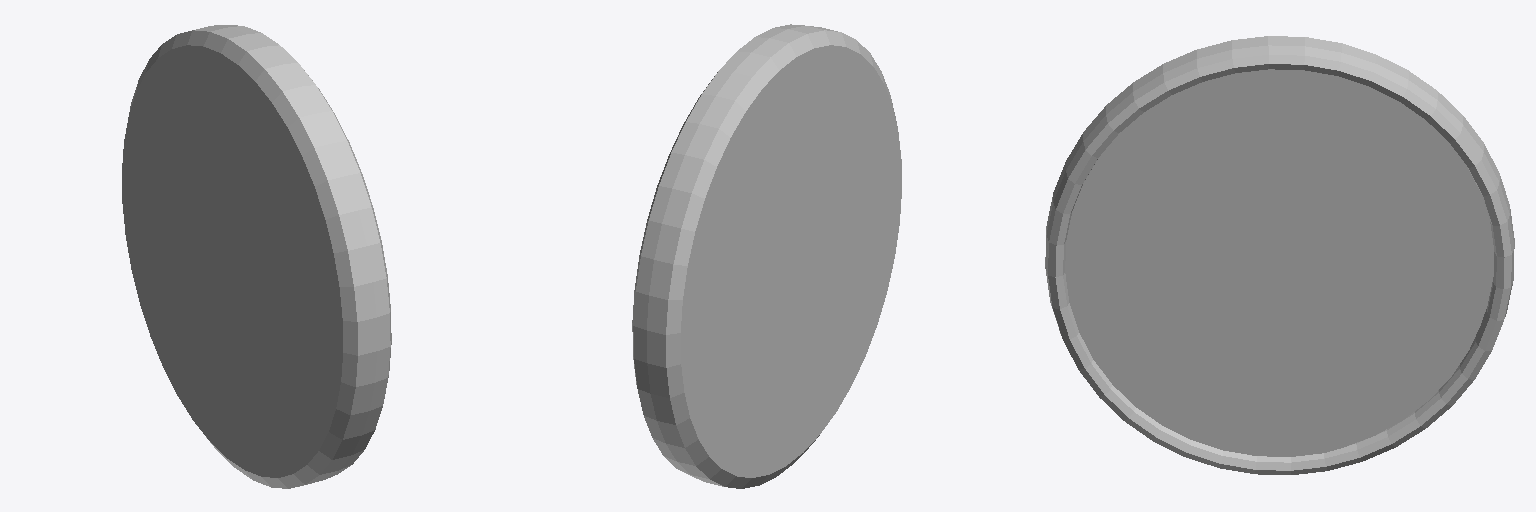
Rendered from Clock.obj.
3 renders of one model, left to right at view 1: azimuth 30°, elevation 25°; view 2: azimuth 150°, elevation 25°; view 3: azimuth 270°, elevation 25°, orthographic.
Parts seen in each view (by area): view 1: Circle.016_Circle.006; view 2: Circle.016_Circle.006; view 3: Circle.000, Circle.016_Circle.006.
Part boxes in pixels (bbox=[...]): Circle.016_Circle.006: bbox=[122, 25, 391, 488]; Circle.016_Circle.006: bbox=[632, 24, 901, 488]; Circle.000: bbox=[1065, 69, 1491, 456]; Circle.016_Circle.006: bbox=[1045, 36, 1514, 474].
Bounding box in the file's own units: 0.1027 × 0.8917 × 0.8917.